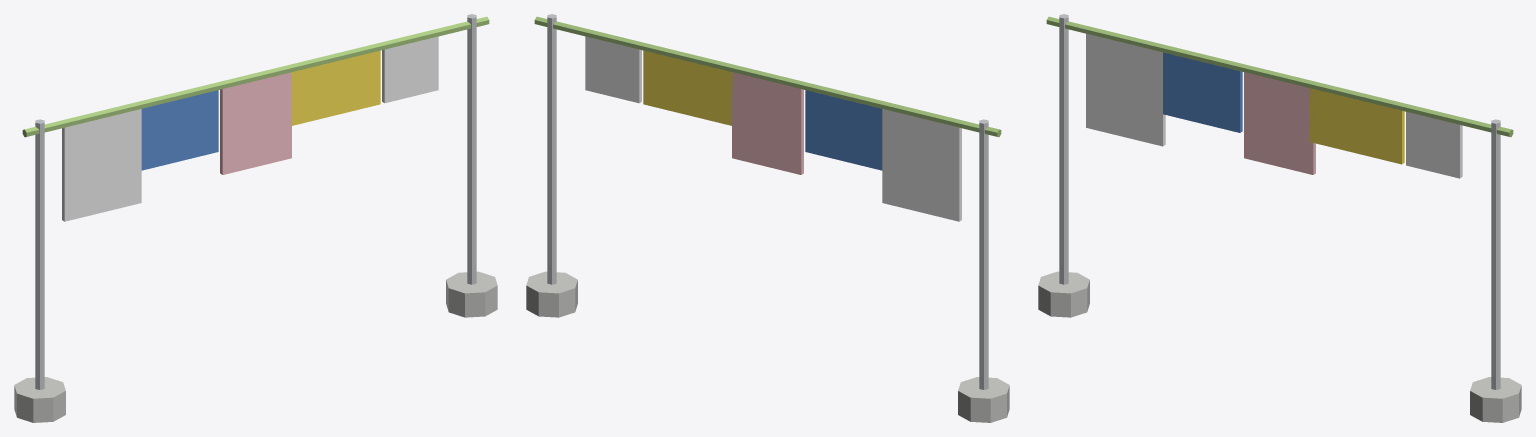
The model's file is monohoshi.glb.
3 views of the same model, side by side, from view 1: azimuth 30°, elevation 25°; view 2: azimuth 150°, elevation 25°; view 3: azimuth 330°, elevation 25° (orthographic).
Parts seen in each view (by area): view 1: monohoshi; view 2: monohoshi; view 3: monohoshi.
Boxes of the visible parts, x1=… form: monohoshi: x1=14, y1=14, x2=497, y2=422; monohoshi: x1=526, y1=14, x2=1009, y2=422; monohoshi: x1=1038, y1=14, x2=1521, y2=422.
Bounding box in the file's own units: 3.1 × 1.8 × 0.3.
